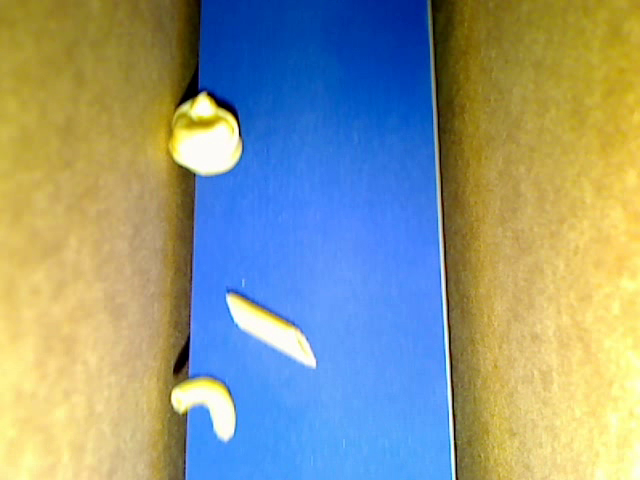elbow: (170, 375, 237, 443)
penne: (226, 293, 315, 368)
tortellini: (167, 92, 243, 174)
